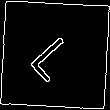L_NE: (26, 26, 84, 84)
